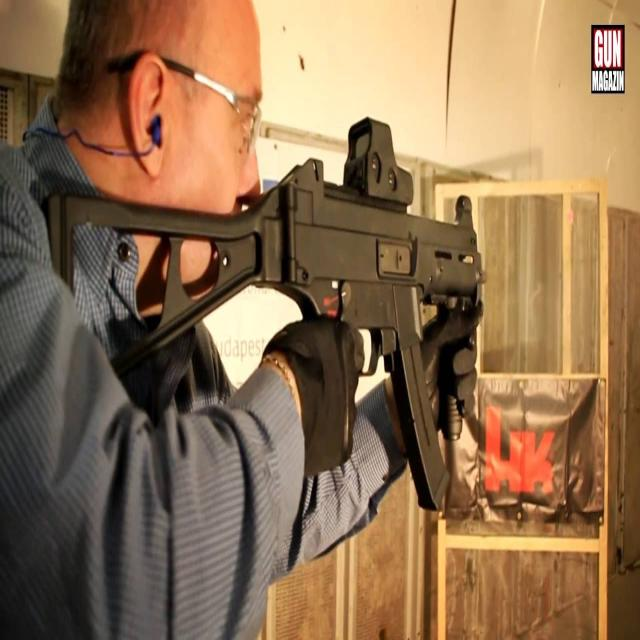SMG: (60, 119, 484, 513)
